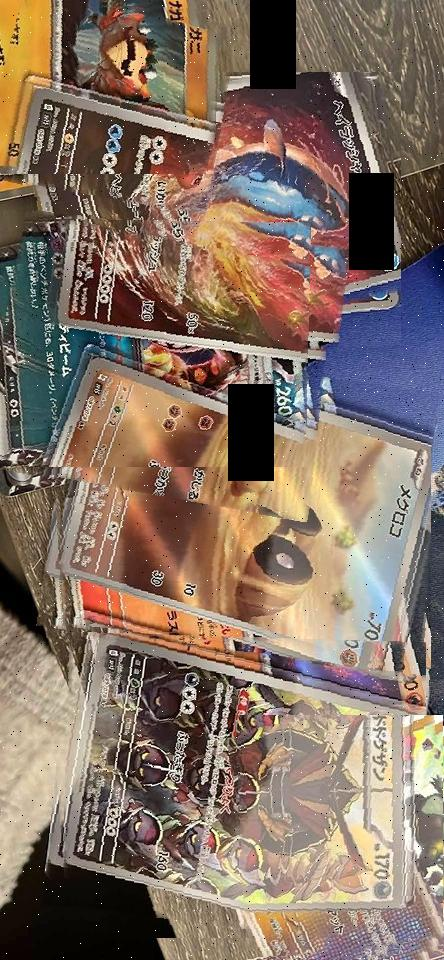card: (60, 348, 431, 669), (64, 634, 426, 938), (23, 72, 401, 361), (0, 220, 307, 467), (245, 715, 443, 958), (0, 1, 215, 174)
